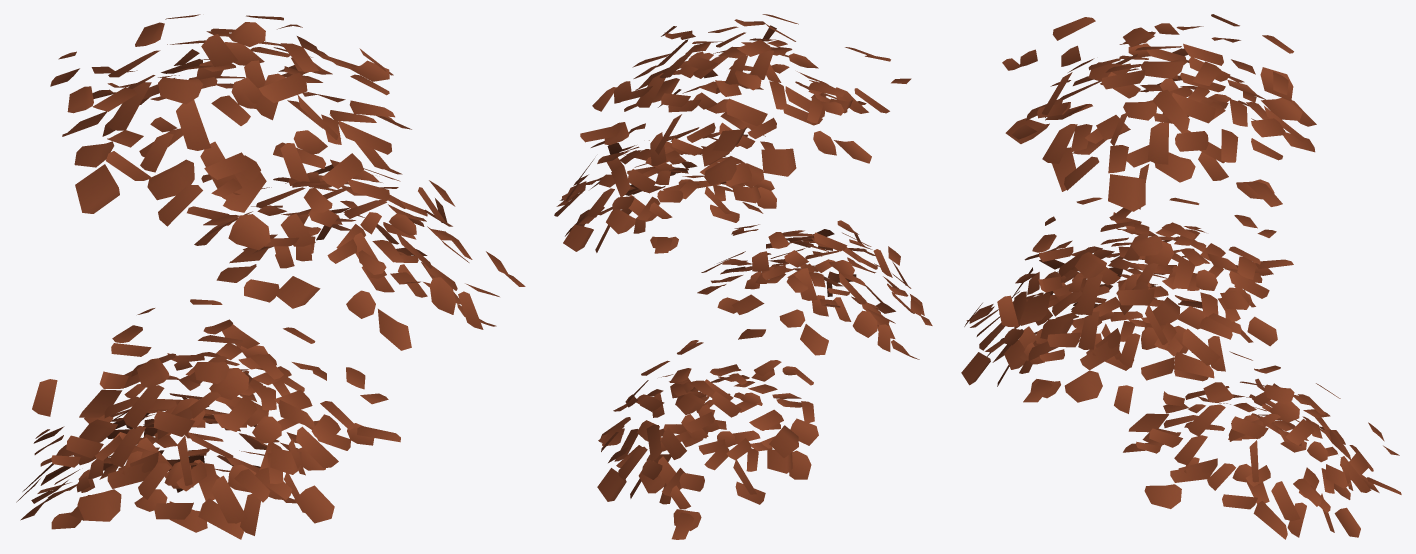
Rendered from environment_tree_variation_a_foliage.fbx.
3 renders of one model, left to right at view 1: azimuth 30°, elevation 25°; view 2: azimuth 150°, elevation 25°; view 3: azimuth 270°, elevation 25°, orthographic. The views are drawn at different scales.
Parts seen in each view (by area): view 1: foliage_b; view 2: foliage_b; view 3: foliage_b.
Boxes of the visible parts, x1,y1,x2,y2 form: foliage_b: (16, 14, 525, 539); foliage_b: (554, 14, 932, 539); foliage_b: (961, 14, 1401, 539).
Size of the model in its own units: 734 by 874 by 723.
